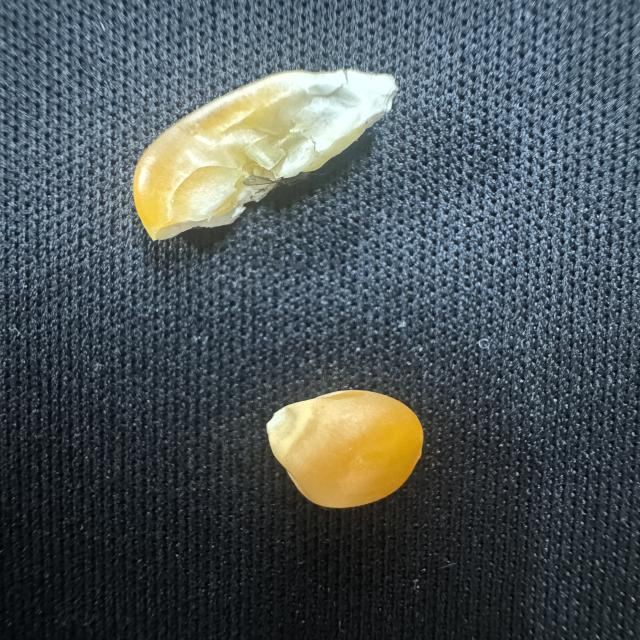Bad-Seed: (119, 64, 407, 247), (258, 383, 434, 517)
